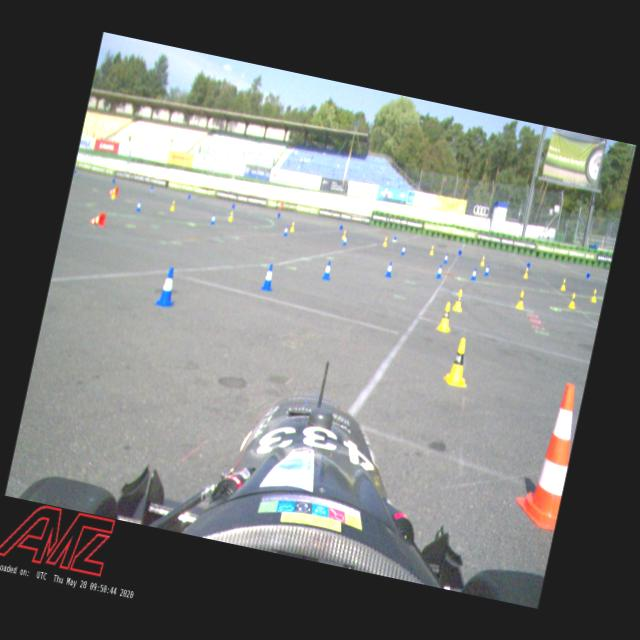blue_cone: (153, 264, 182, 308), (258, 262, 278, 293), (321, 259, 334, 281), (384, 260, 394, 278), (434, 263, 444, 279), (469, 266, 478, 280), (135, 198, 142, 212), (210, 212, 217, 225), (484, 264, 491, 276), (282, 224, 288, 237), (400, 244, 406, 256), (443, 253, 449, 265), (342, 234, 348, 246), (584, 272, 590, 280), (456, 248, 462, 256), (525, 261, 531, 268)
large_orange_cone: (512, 378, 584, 528)
orange_cone: (88, 209, 106, 227), (108, 185, 120, 196)
yellow_cone: (442, 335, 476, 388), (436, 300, 456, 332), (452, 287, 466, 312), (514, 288, 528, 310), (568, 290, 578, 308), (590, 286, 599, 302), (558, 277, 568, 291), (522, 266, 530, 279), (168, 199, 176, 211), (227, 209, 234, 222), (289, 221, 296, 232), (479, 255, 486, 266), (110, 187, 116, 199), (382, 236, 388, 247), (429, 245, 435, 256), (342, 229, 346, 239)
